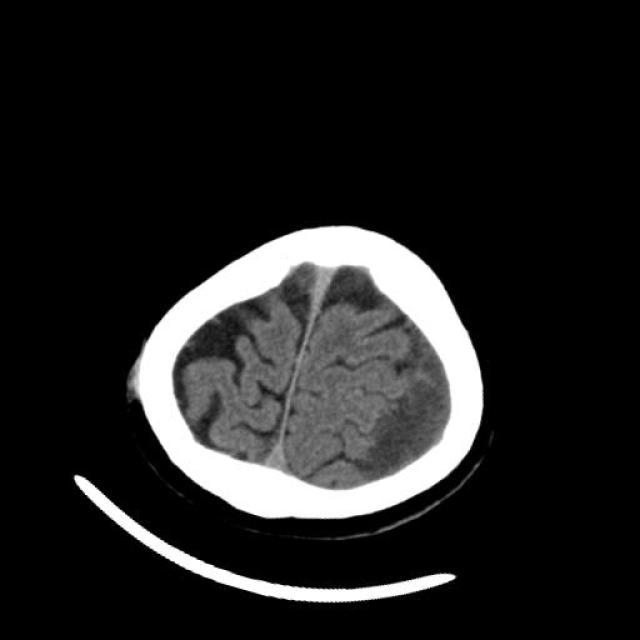Subdural: (286, 244, 359, 338)
